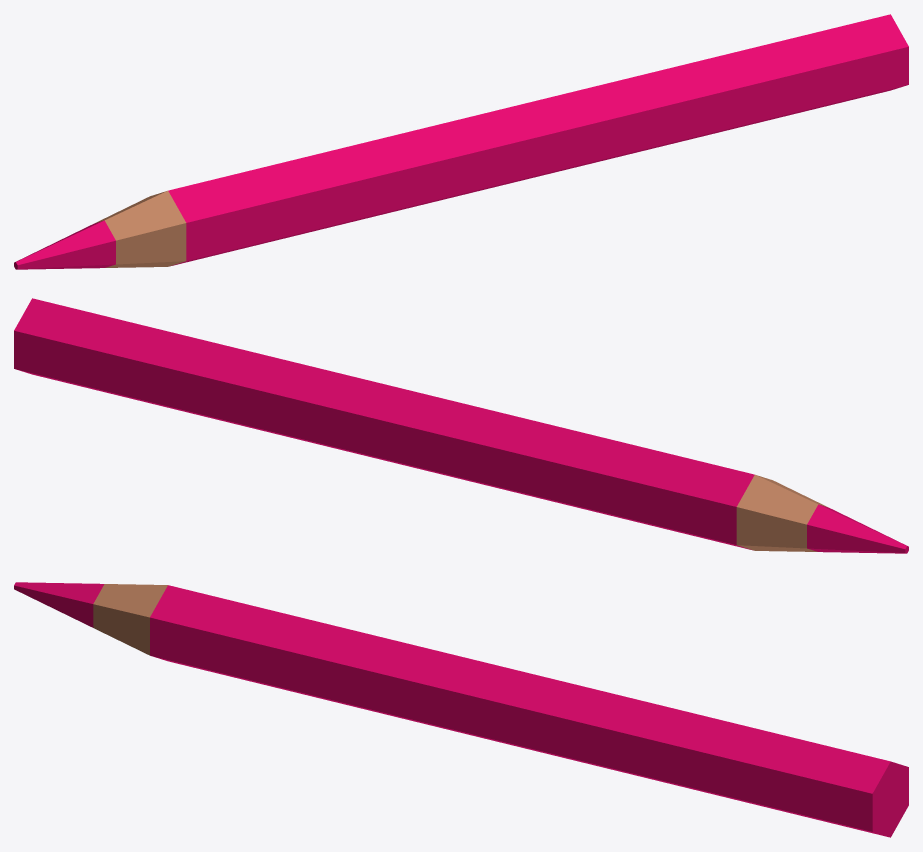
The model's file is pencil_2.fbx.
3 views of the same model, one above another, from view 1: azimuth 30°, elevation 25°; view 2: azimuth 150°, elevation 25°; view 3: azimuth 330°, elevation 25° (orthographic).
Visible parts, largest first — view 1: Pencil.003; view 2: Pencil.003; view 3: Pencil.003.
Part boxes in pixels (x1,y1,x2,y2): Pencil.003: [14, 14, 908, 269]; Pencil.003: [14, 298, 908, 553]; Pencil.003: [14, 582, 908, 837].
Bounding box in the file's own units: 31.93 × 2.66 × 2.3.
